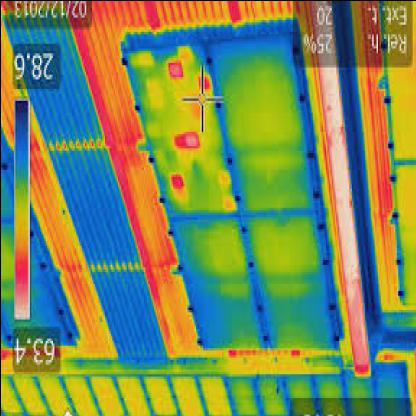Defects: (164, 54, 184, 80), (170, 131, 199, 147), (168, 172, 186, 188), (201, 74, 209, 88)
